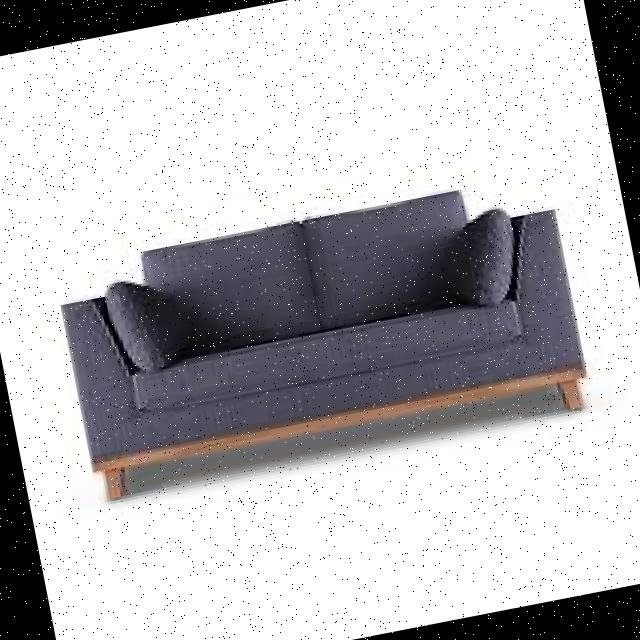Sofa: (54, 160, 603, 503)
